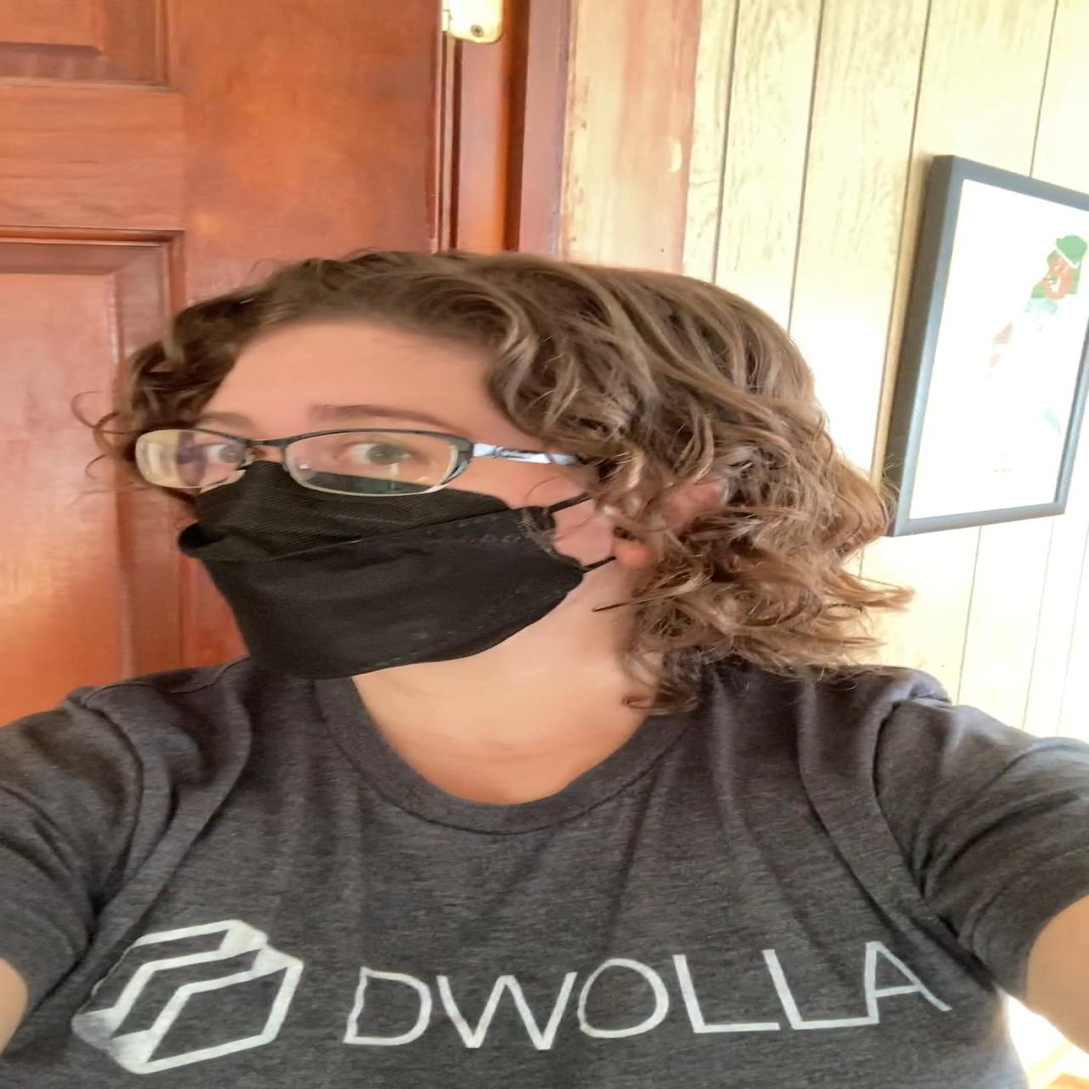NO_Safety_Vest: (51, 669, 1018, 1089)
Person: (0, 249, 1089, 1089)
